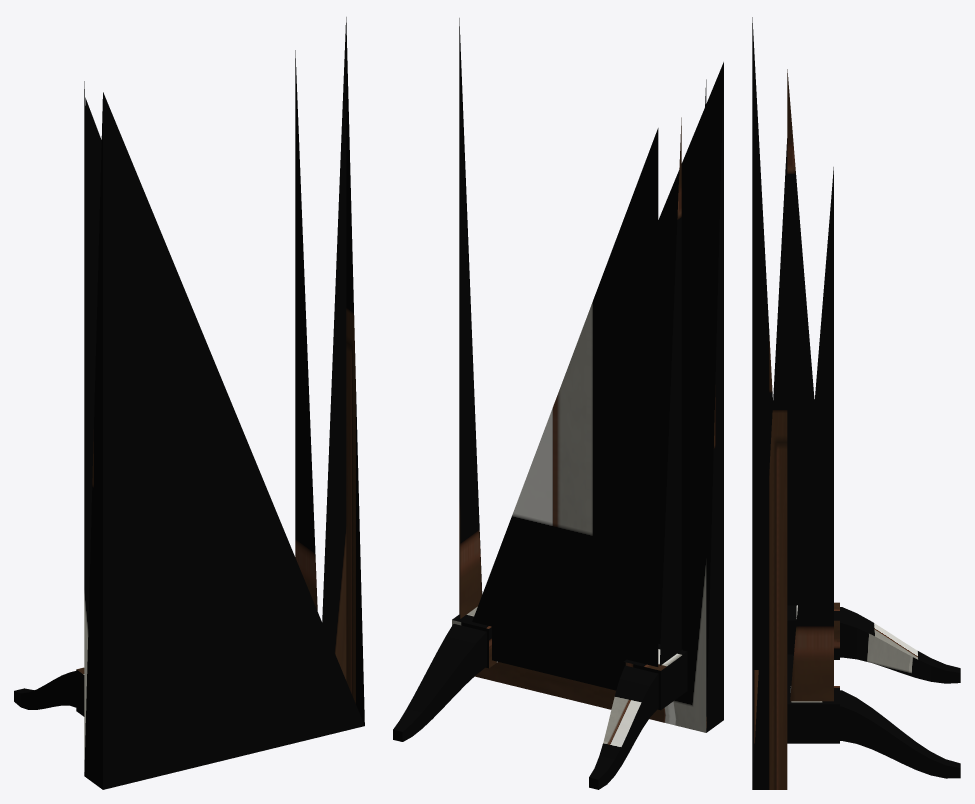
3 views of the same model, side by side, from view 1: azimuth 30°, elevation 25°; view 2: azimuth 150°, elevation 25°; view 3: azimuth 270°, elevation 25° (orthographic). The views are drawn at different scales.
Size of the model in its own units: 0.4596 by 1.17 by 0.3371.
